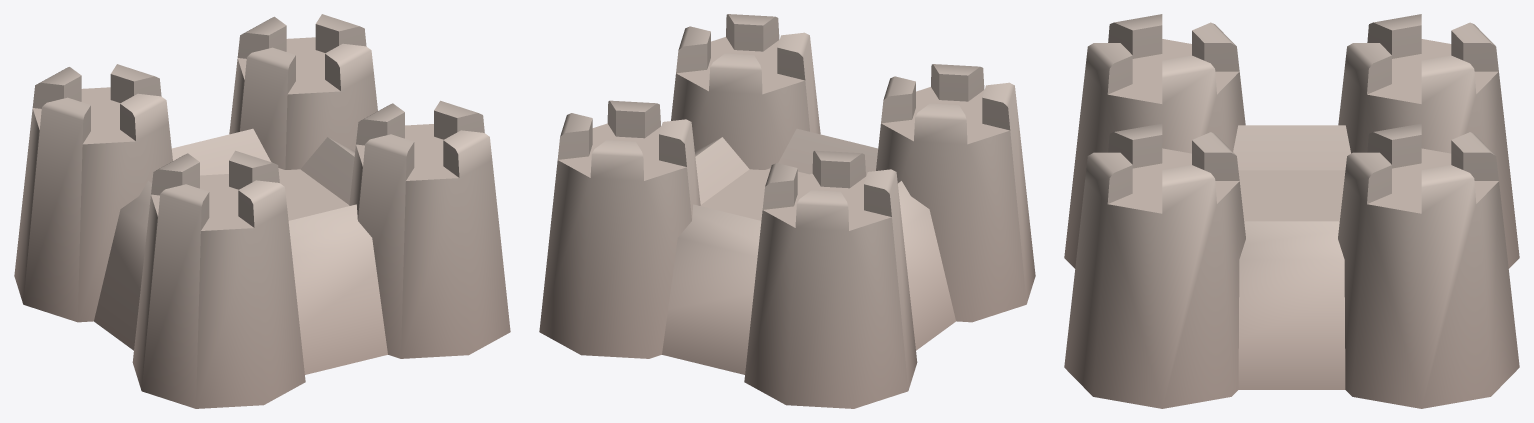
File: sandcastle.glb
The picture shows the model from 3 angles, left to right: view 1: azimuth 30°, elevation 25°; view 2: azimuth 150°, elevation 25°; view 3: azimuth 270°, elevation 25°; orthographic projection. The views are drawn at different scales.
Visible parts, largest first — view 1: sandcastle; view 2: sandcastle; view 3: sandcastle.
Part boxes in pixels (box(x1,y1,x2,y2)): sandcastle: box(14, 14, 510, 408); sandcastle: box(539, 14, 1035, 408); sandcastle: box(1064, 14, 1519, 408).
Size of the model in its own units: 0.4392 by 0.2288 by 0.4392.
